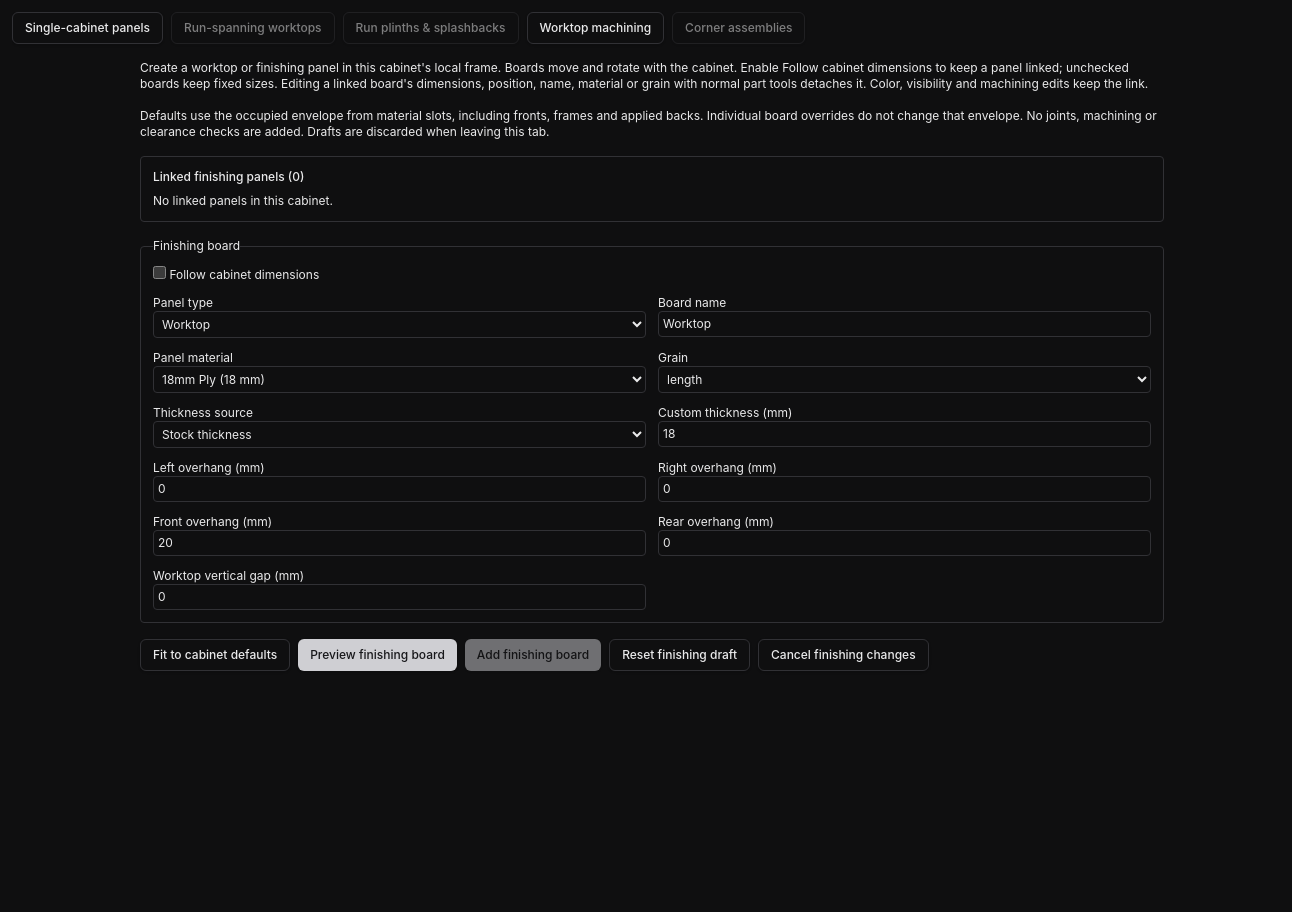
Test: exposes machining under Finishing without changing the default mode
Expected: the element named "Cabinet finishing editor" is shown, [140,60,1164,671]
Step 1. Click the button "Worktop machining" → (595, 28), box [526,12,664,44]
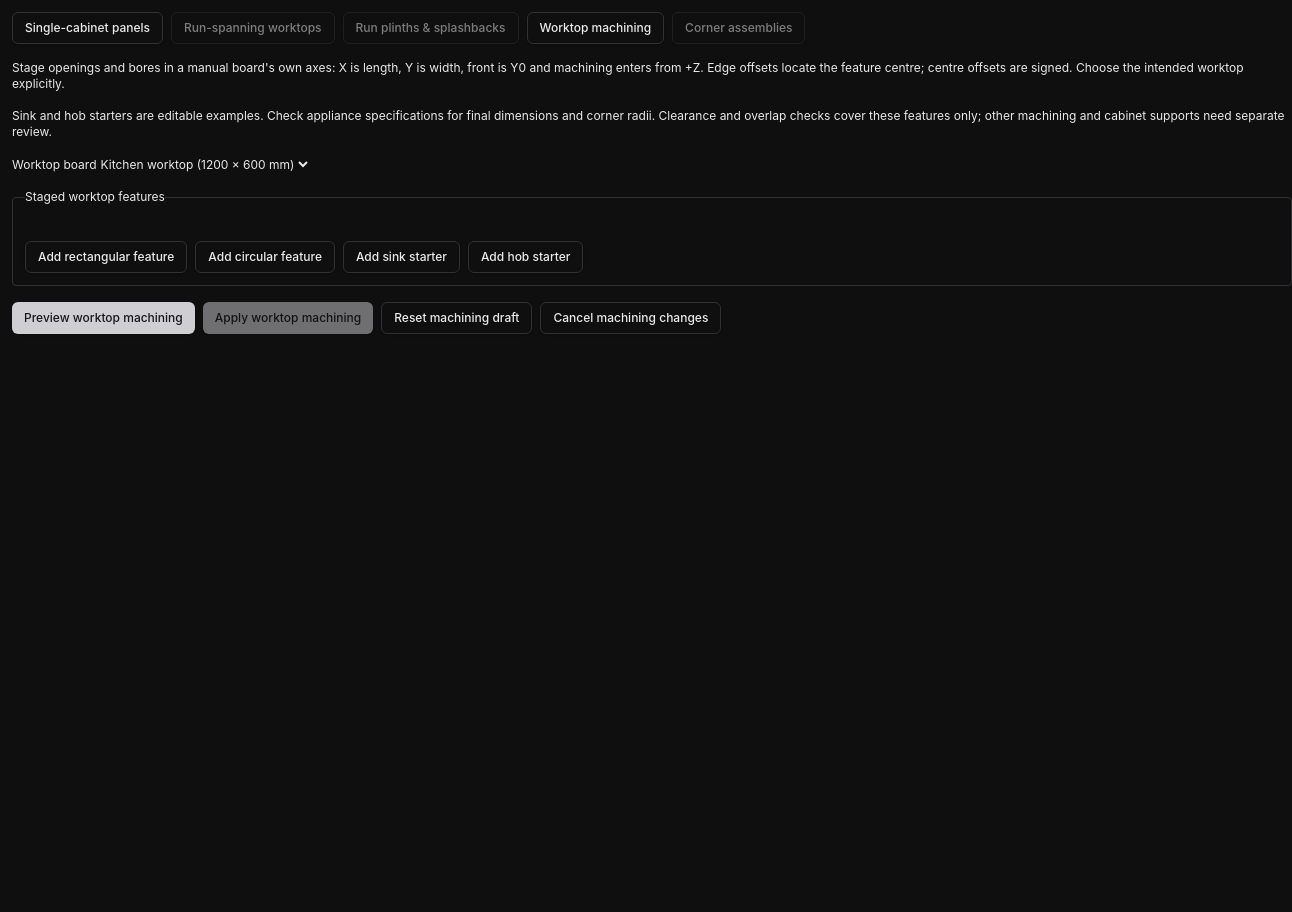
Result: the element named "Worktop machining editor" is shown at [12,60,1291,334]
